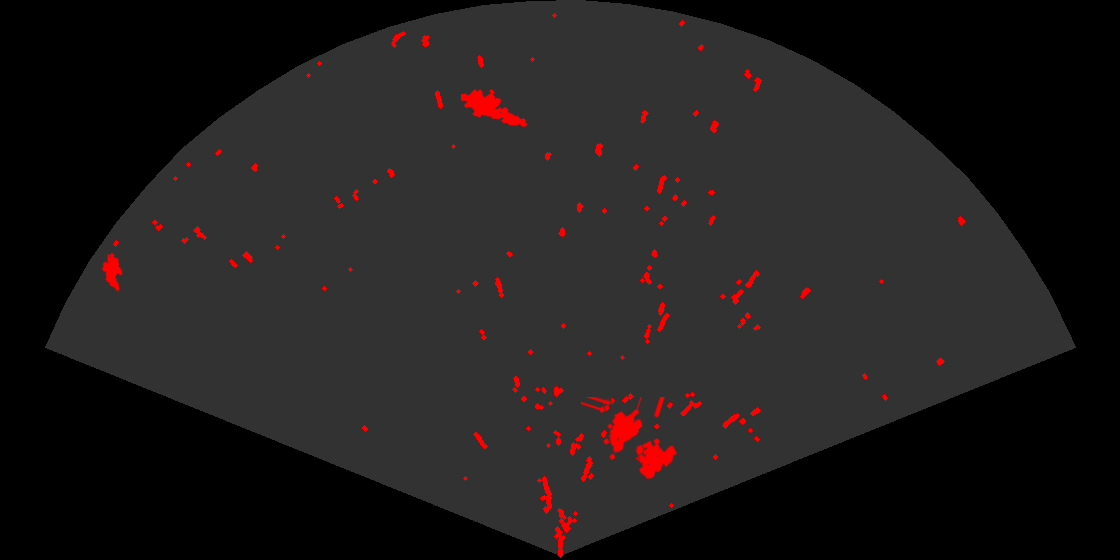AUV: (100, 251, 124, 293)
cage: (581, 397, 679, 481)
frogman: (461, 87, 529, 128)
